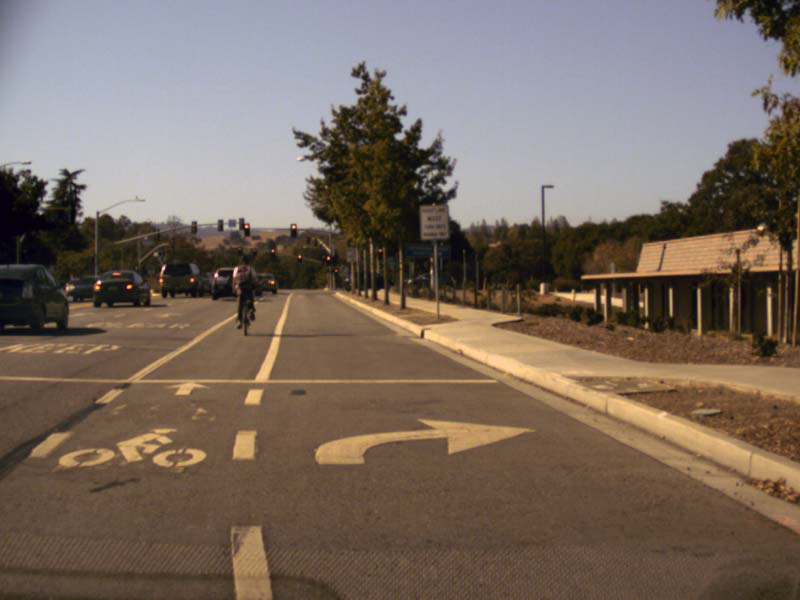Red: (243, 223, 250, 236), (377, 247, 383, 260), (291, 223, 296, 237), (237, 246, 242, 257), (297, 253, 302, 263), (325, 254, 331, 262), (252, 248, 256, 256)
Yellow: (270, 248, 275, 257), (333, 269, 337, 273)
